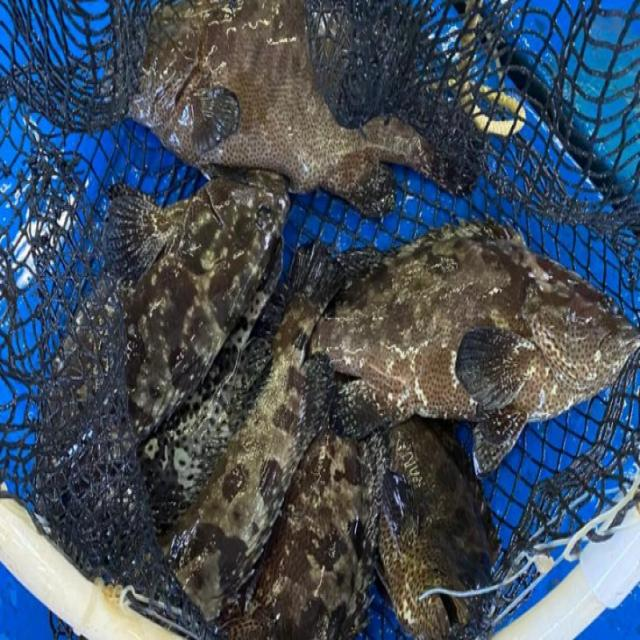grouper: (44, 166, 302, 472), (125, 2, 485, 206), (315, 218, 639, 435)
